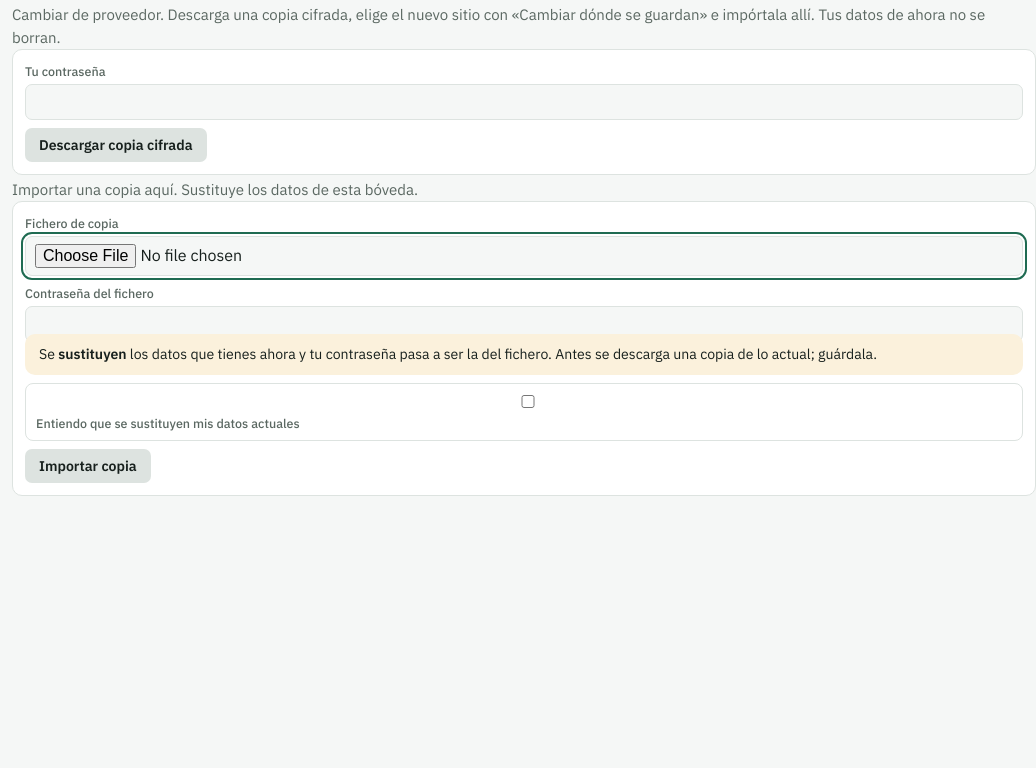
Scenario: CopiaDatos › importar sustituye solo con confirmación y descarga antes la copia previa
The width and height of the screenshot is (1036, 768).
Earlier steps of the test are not shown.
Later steps or results of the test are not shown.
Type "clave-fichero-1" into the password field labelled "Contraseña del fichero".
click(524, 324); type("clave-fichero-1")  # box left=25, top=306, right=1023, bottom=342
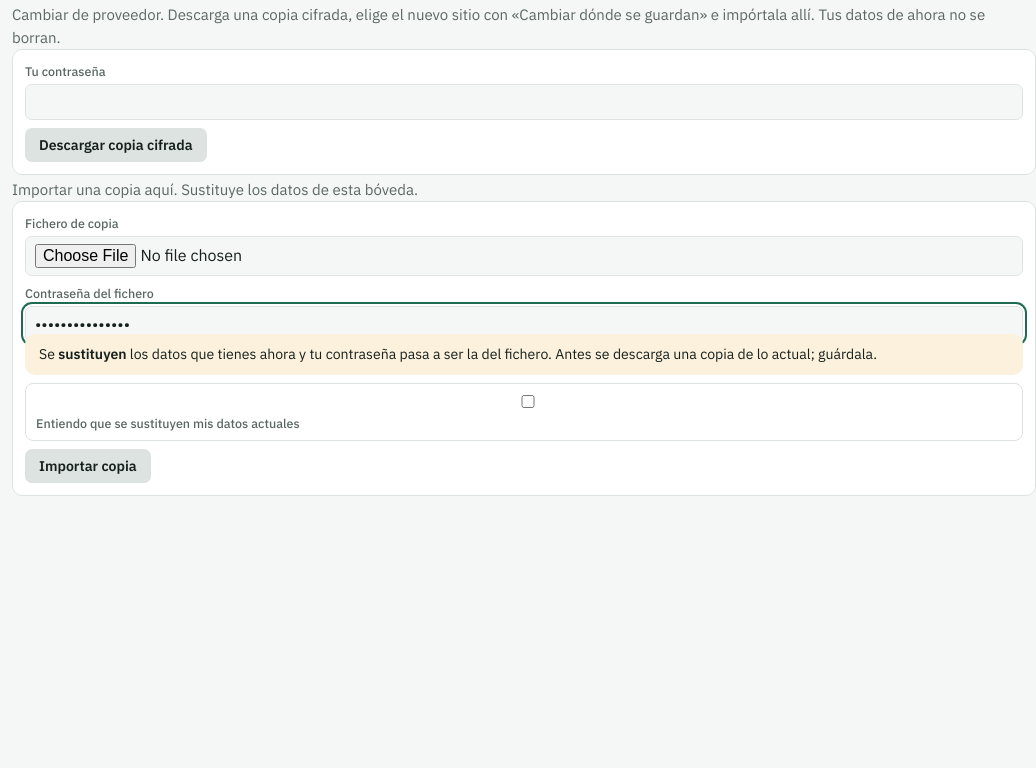
Click the button "Importar copia".
click(88, 466)  # box left=25, top=450, right=151, bottom=484
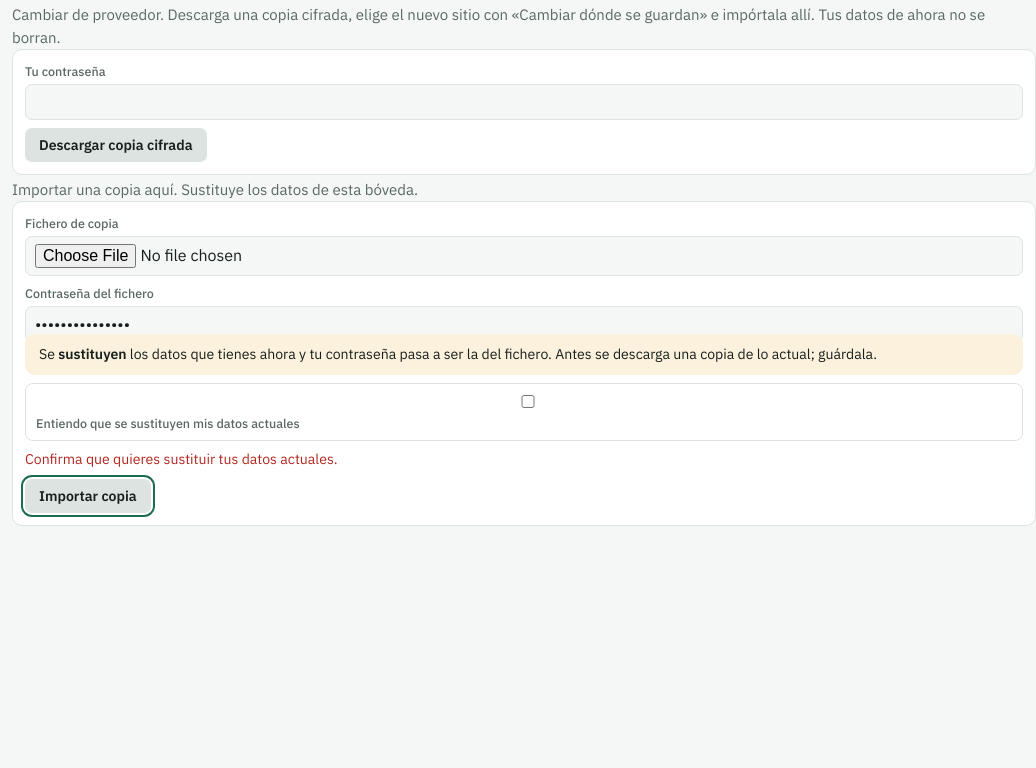
Result: the message shows "Confirma" at left=25, top=450, right=338, bottom=468
